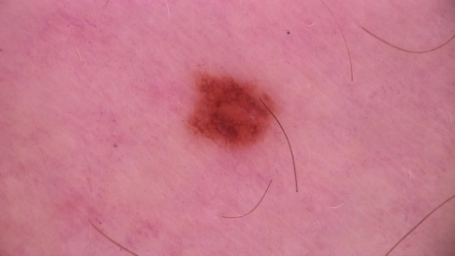nevus: (189, 73, 274, 146)
